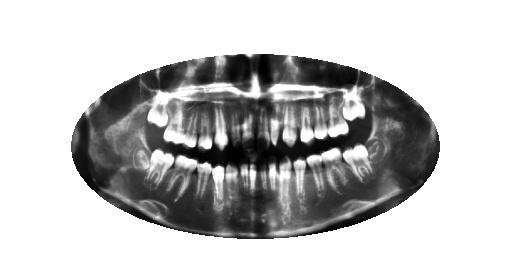i10decay: (239, 156, 250, 195)
i11chipped: (223, 159, 241, 200)
i12healthy: (212, 162, 224, 207)
i13healthy: (194, 158, 214, 202)
i14healthy: (165, 152, 200, 204)
i15healthy: (145, 144, 177, 192)
i16healthy: (126, 142, 156, 174)
i1healthy: (360, 135, 390, 170)
i2healthy: (339, 142, 378, 184)
i3healthy: (319, 145, 348, 196)
i4healthy: (302, 149, 328, 201)
i5chipped: (290, 153, 311, 204)
i6decay: (278, 152, 292, 207)
i7decay: (265, 155, 280, 195)
i8decay: (254, 155, 270, 191)
i9decay: (249, 155, 259, 192)
u10decay: (226, 102, 246, 152)
u11healthy: (212, 97, 232, 154)
u12healthy: (196, 99, 217, 152)
u13healthy: (182, 105, 201, 150)
u14healthy: (162, 102, 187, 146)
u15healthy: (146, 87, 172, 133)
u16loss: (131, 96, 152, 125)
u1loss: (364, 92, 390, 121)
u2healthy: (336, 83, 370, 122)
u3healthy: (322, 96, 352, 138)
u4healthy: (311, 97, 332, 142)
u5healthy: (299, 99, 317, 145)
u6healthy: (280, 96, 301, 149)
u7chipped: (266, 98, 285, 148)
u8decay: (254, 99, 273, 151)
u9decay: (240, 98, 256, 154)
